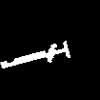double_crochet: (1, 41, 69, 67)
